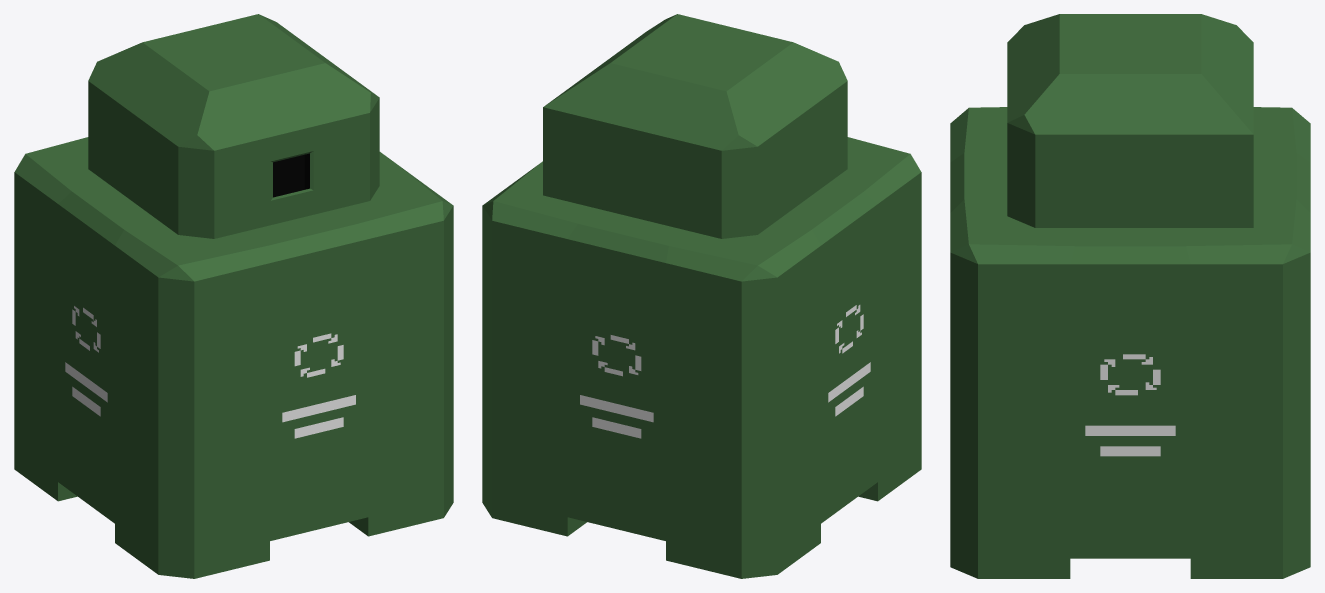
Rendered from BottleBin.fbx.
3 views of the same model, side by side, from view 1: azimuth 30°, elevation 25°; view 2: azimuth 150°, elevation 25°; view 3: azimuth 270°, elevation 25° (orthographic). The views are drawn at different scales.
Parts seen in each view (by area): view 1: Cube.058; view 2: Cube.058; view 3: Cube.058.
Boxes of the visible parts, x1=… form: Cube.058: x1=14, y1=14, x2=453, y2=578; Cube.058: x1=482, y1=14, x2=921, y2=578; Cube.058: x1=950, y1=14, x2=1310, y2=578.
Bounding box in the file's own units: 350 × 491 × 350.
